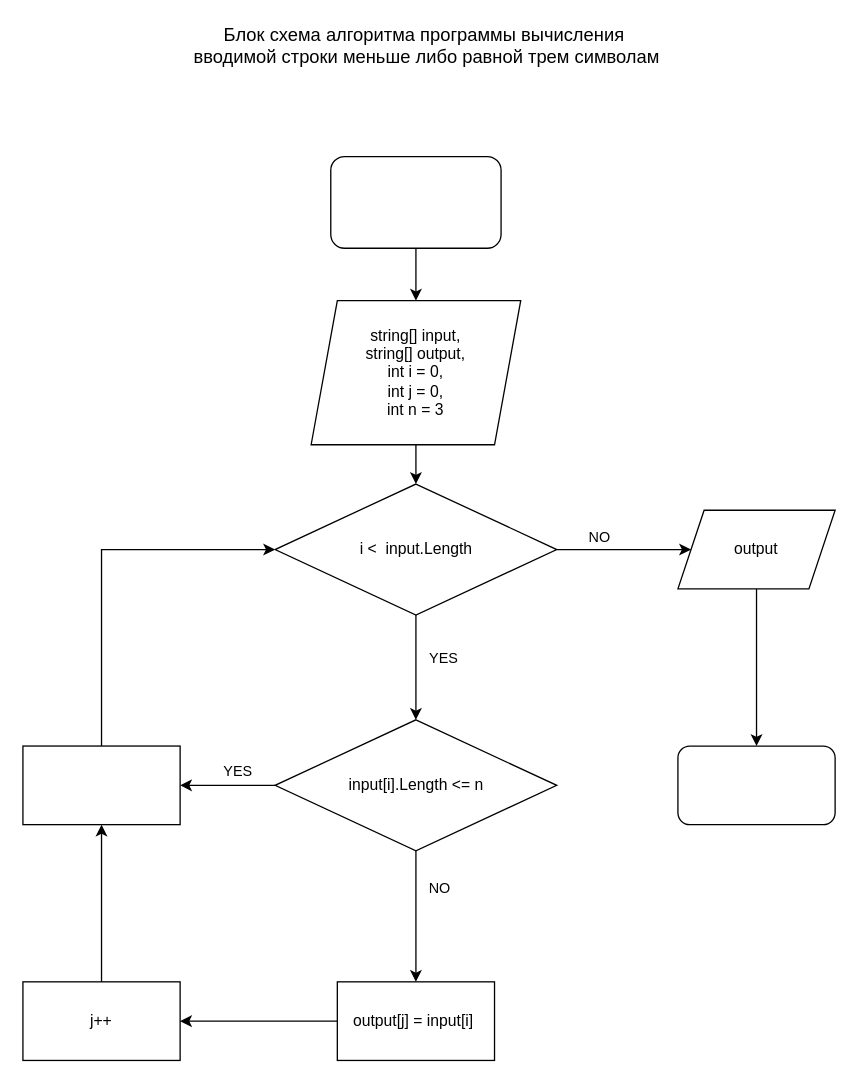
Image size: 858x1083. Some labels were removed from this diagram. Each missing label, with the centre of its shape:
"END" goes at (756,785).
"i++" goes at (101,785).
"START" goes at (415,201).
